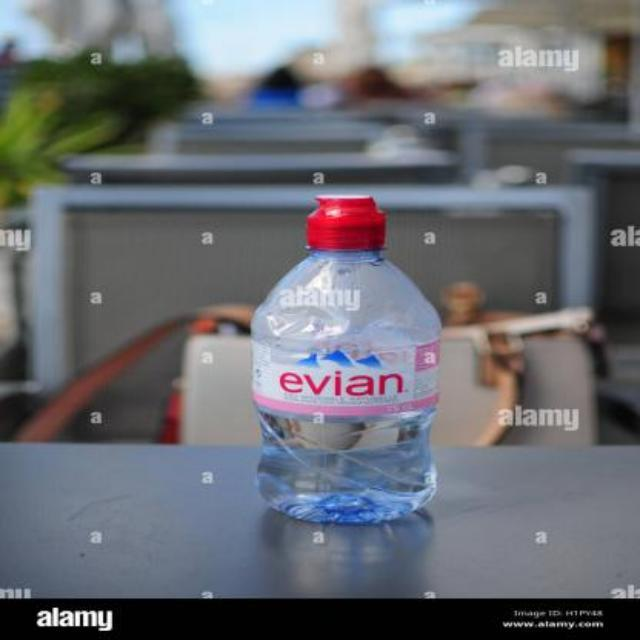bottle: (228, 180, 454, 536)
